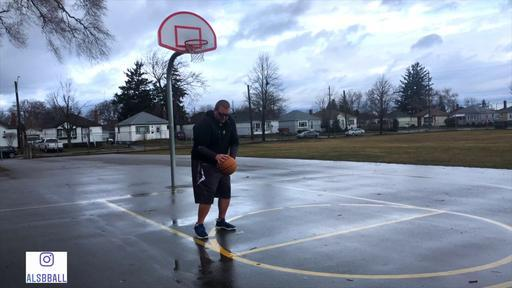ball: (220, 156, 236, 173)
human: (191, 99, 238, 240)
rim: (184, 39, 209, 63)
